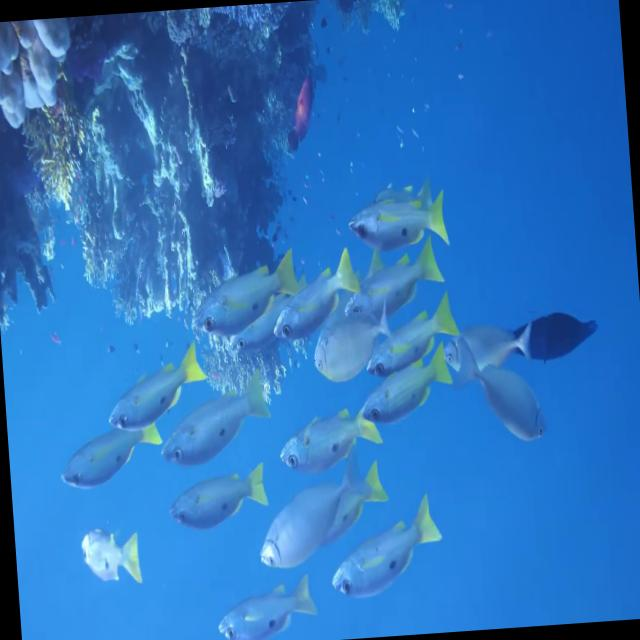fish: (254, 454, 369, 572), (153, 368, 281, 474), (326, 502, 442, 607), (272, 394, 388, 486), (104, 340, 208, 442), (344, 236, 450, 334), (268, 250, 362, 348), (194, 255, 302, 338), (464, 354, 555, 446), (166, 452, 266, 534), (61, 413, 167, 490), (304, 299, 396, 386), (213, 566, 318, 640), (364, 298, 461, 375), (344, 183, 444, 255), (356, 352, 455, 424), (440, 326, 537, 384), (82, 526, 150, 589)
